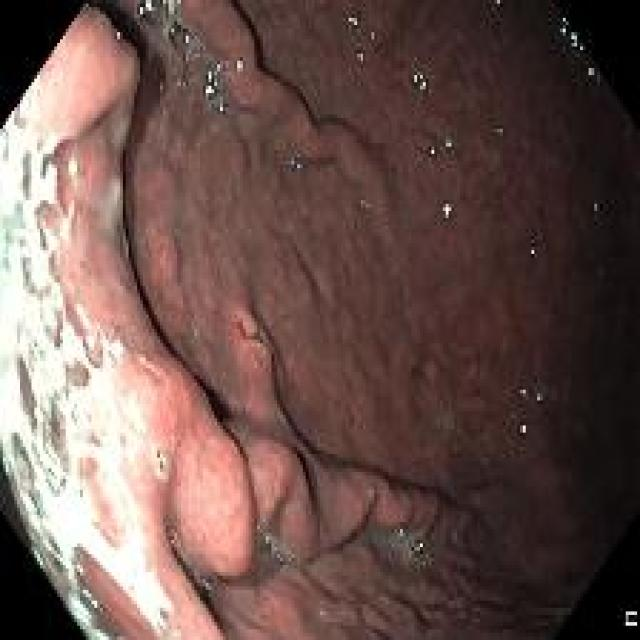bubbles: (177, 43, 231, 114), (163, 17, 203, 61), (256, 522, 291, 570), (192, 570, 225, 617), (134, 0, 172, 31), (169, 532, 189, 572), (402, 536, 427, 562), (367, 527, 393, 551), (153, 447, 170, 482), (287, 154, 304, 174)
color misalignment: (625, 611, 637, 626)
contrast: (606, 79, 638, 575)
saturation: (1, 71, 175, 634)
specularity: (559, 19, 585, 52), (204, 69, 219, 97), (411, 71, 428, 91), (154, 452, 166, 478), (66, 155, 77, 178), (137, 2, 153, 17), (345, 13, 357, 24), (519, 424, 529, 437), (443, 203, 451, 217), (235, 58, 243, 71), (291, 158, 302, 167), (355, 51, 363, 62), (444, 138, 452, 149), (587, 64, 594, 75), (218, 104, 227, 112), (415, 542, 423, 551), (430, 146, 435, 158)
